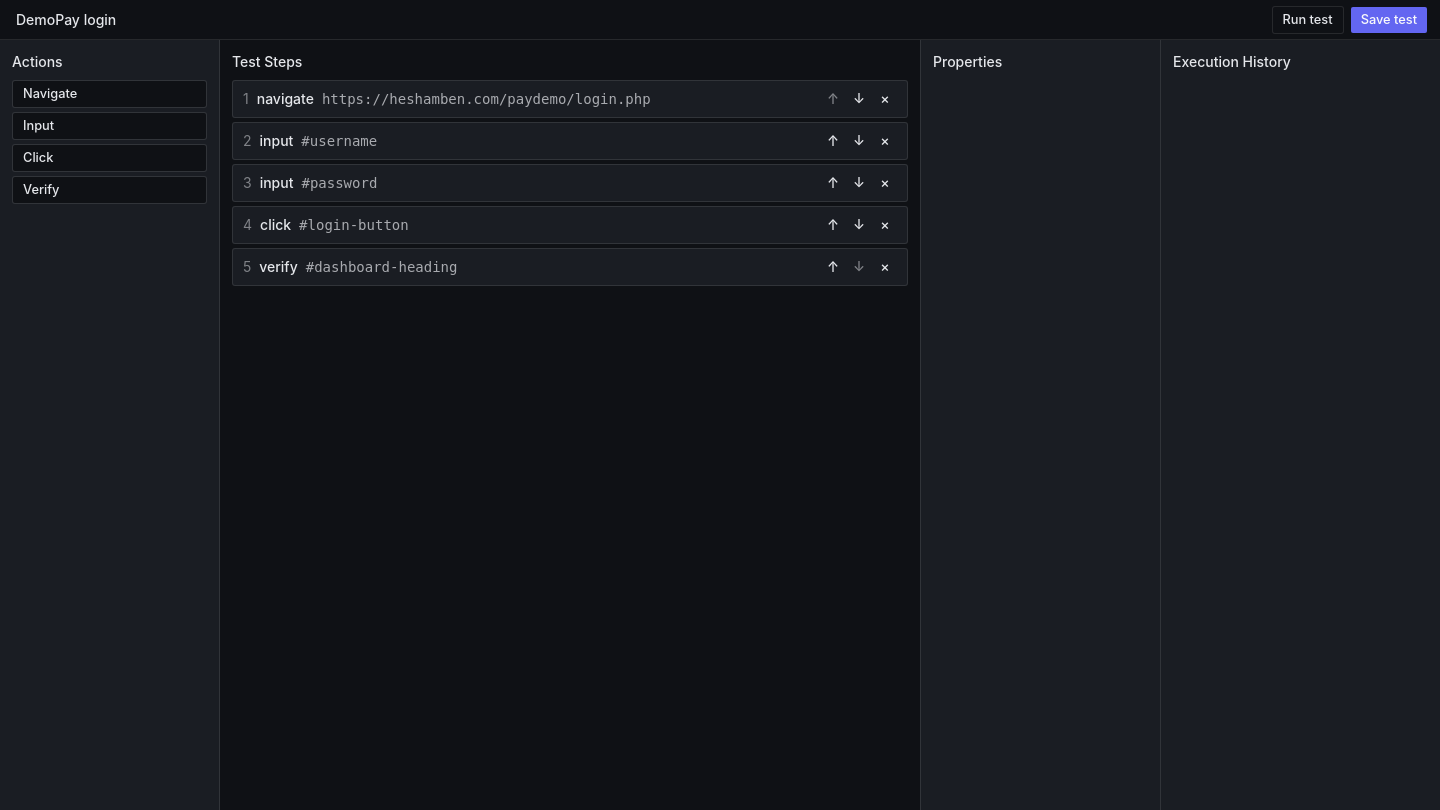
Test: TestDesigner › selects a step on click and shows its fields in the Properties panel
This screenshot has width=1440, height=810.
Click the list item "2 input #username ↑ ↓ ×".
click(570, 141)  # box top-left (232, 122), bottom-right (908, 160)
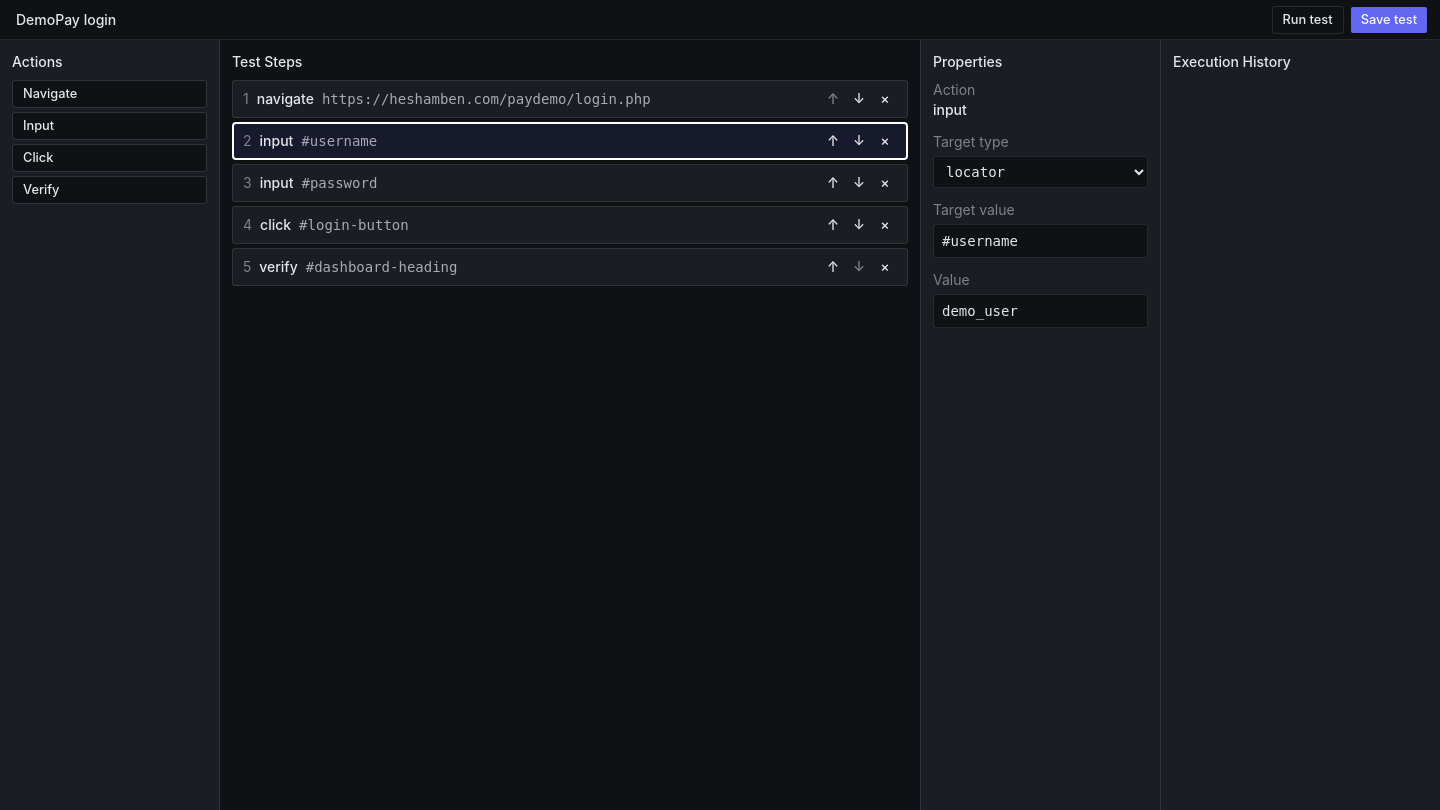
Result: the element "Properties" shows "input" at top-left (933, 101), bottom-right (967, 118)
Result: the field labelled "Target value" holds "#username" at top-left (933, 224), bottom-right (1148, 258)
